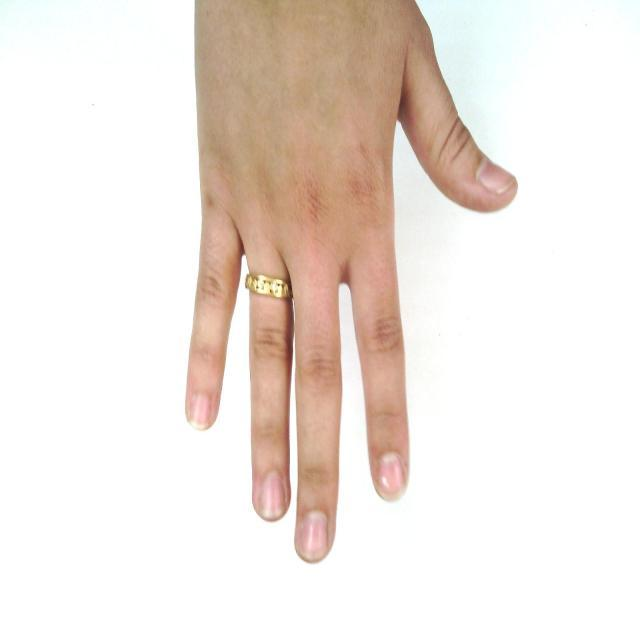Fingernail: (297, 512, 327, 561), (258, 473, 286, 518), (478, 160, 514, 193), (379, 453, 404, 500), (190, 394, 211, 428)
